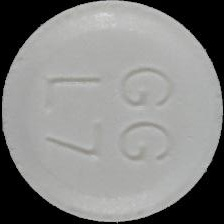35356-930: (0, 0, 224, 224)
